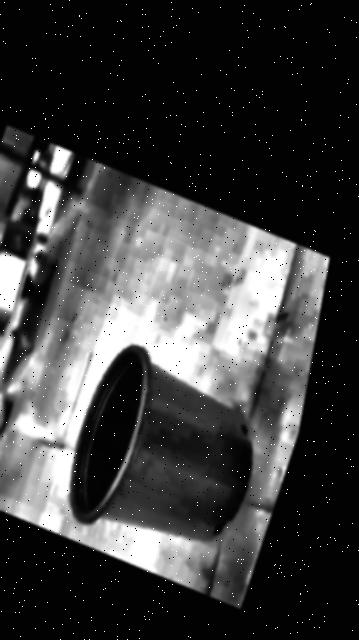pot: (68, 345, 250, 539)
